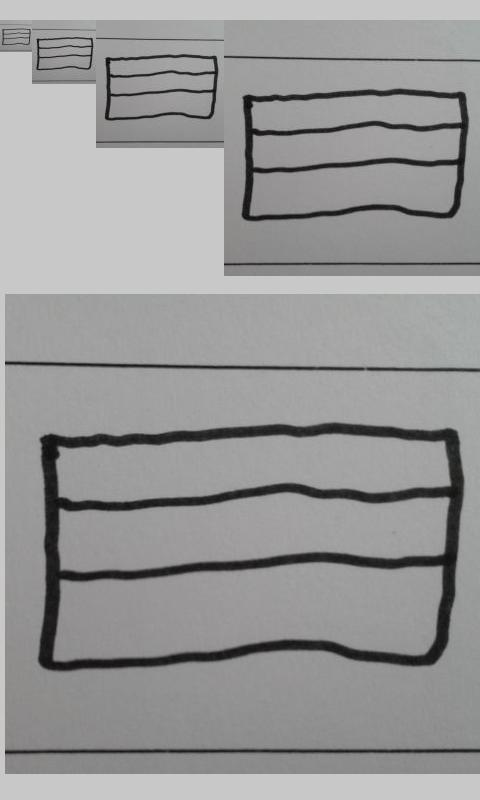list_view: (38, 424, 463, 674), (241, 89, 468, 223), (105, 55, 218, 121), (36, 37, 95, 71), (2, 28, 31, 46)
